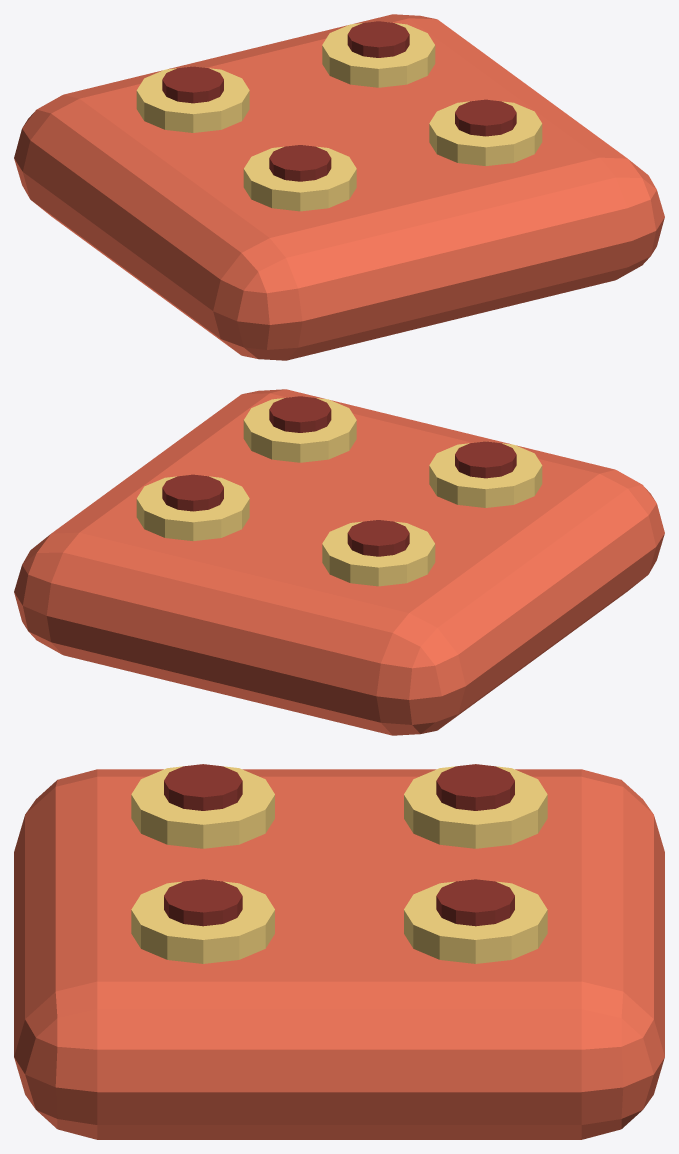
File: PR3D_Container_1x1.glb
The picture shows the model from 3 angles, top to bottom: view 1: azimuth 30°, elevation 25°; view 2: azimuth 150°, elevation 25°; view 3: azimuth 270°, elevation 25°; orthographic projection. The views are drawn at different scales.
Visible parts, largest first — view 1: Visual_1x1_Base_00, Visual_1x1_Cheese_00_00, Visual_1x1_Cheese_00_03, Visual_1x1_Cheese_00_02, Visual_1x1_Cheese_00_01, Visual_1x1_Tomato_00_00, Visual_1x1_Tomato_00_03, Visual_1x1_Tomato_00_01, Visual_1x1_Tomato_00_02; view 2: Visual_1x1_Base_00, Visual_1x1_Cheese_00_01, Visual_1x1_Cheese_00_02, Visual_1x1_Cheese_00_03, Visual_1x1_Cheese_00_00, Visual_1x1_Tomato_00_01, Visual_1x1_Tomato_00_02, Visual_1x1_Tomato_00_00, Visual_1x1_Tomato_00_03; view 3: Visual_1x1_Base_00, Visual_1x1_Cheese_00_02, Visual_1x1_Cheese_00_03, Visual_1x1_Cheese_00_00, Visual_1x1_Cheese_00_01, Visual_1x1_Tomato_00_02, Visual_1x1_Tomato_00_03, Visual_1x1_Tomato_00_00, Visual_1x1_Tomato_00_01.
Part boxes in pixels (x1,y1,x2,y2): Visual_1x1_Base_00: [14, 14, 664, 360]; Visual_1x1_Cheese_00_00: [243, 146, 356, 211]; Visual_1x1_Cheese_00_03: [322, 23, 435, 87]; Visual_1x1_Cheese_00_02: [429, 101, 542, 166]; Visual_1x1_Cheese_00_01: [136, 68, 249, 132]; Visual_1x1_Tomato_00_00: [269, 145, 331, 181]; Visual_1x1_Tomato_00_03: [347, 21, 409, 57]; Visual_1x1_Tomato_00_01: [162, 66, 223, 103]; Visual_1x1_Tomato_00_02: [455, 99, 516, 136]; Visual_1x1_Base_00: [14, 389, 664, 735]; Visual_1x1_Cheese_00_01: [322, 521, 435, 586]; Visual_1x1_Cheese_00_02: [243, 398, 356, 462]; Visual_1x1_Cheese_00_03: [136, 476, 249, 541]; Visual_1x1_Cheese_00_00: [429, 443, 542, 507]; Visual_1x1_Tomato_00_01: [347, 520, 409, 556]; Visual_1x1_Tomato_00_02: [269, 396, 331, 432]; Visual_1x1_Tomato_00_00: [455, 441, 516, 478]; Visual_1x1_Tomato_00_03: [162, 474, 223, 511]; Visual_1x1_Base_00: [14, 769, 664, 1139]; Visual_1x1_Cheese_00_02: [131, 881, 274, 963]; Visual_1x1_Cheese_00_03: [404, 881, 547, 963]; Visual_1x1_Cheese_00_00: [131, 766, 274, 848]; Visual_1x1_Cheese_00_01: [404, 766, 547, 848]; Visual_1x1_Tomato_00_02: [164, 879, 242, 926]; Visual_1x1_Tomato_00_03: [436, 879, 514, 926]; Visual_1x1_Tomato_00_00: [164, 764, 242, 810]; Visual_1x1_Tomato_00_01: [436, 764, 514, 810].
Size of the model in its own units: 0.86 by 0.2795 by 0.86.
